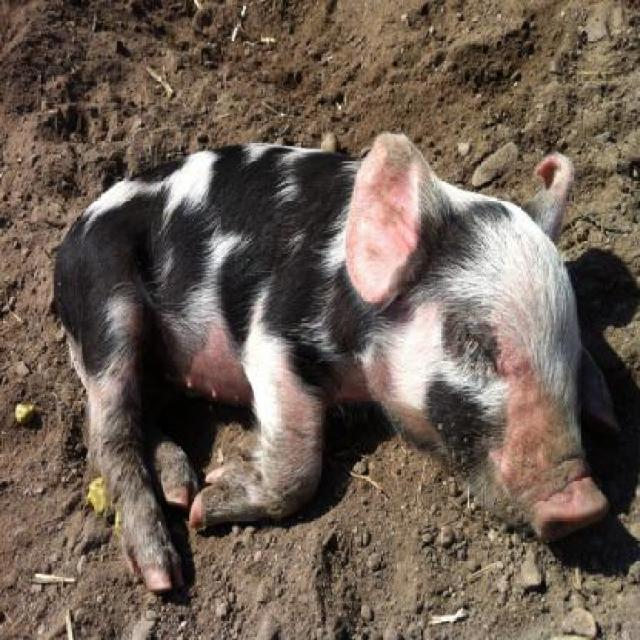pig: (48, 134, 609, 592)
